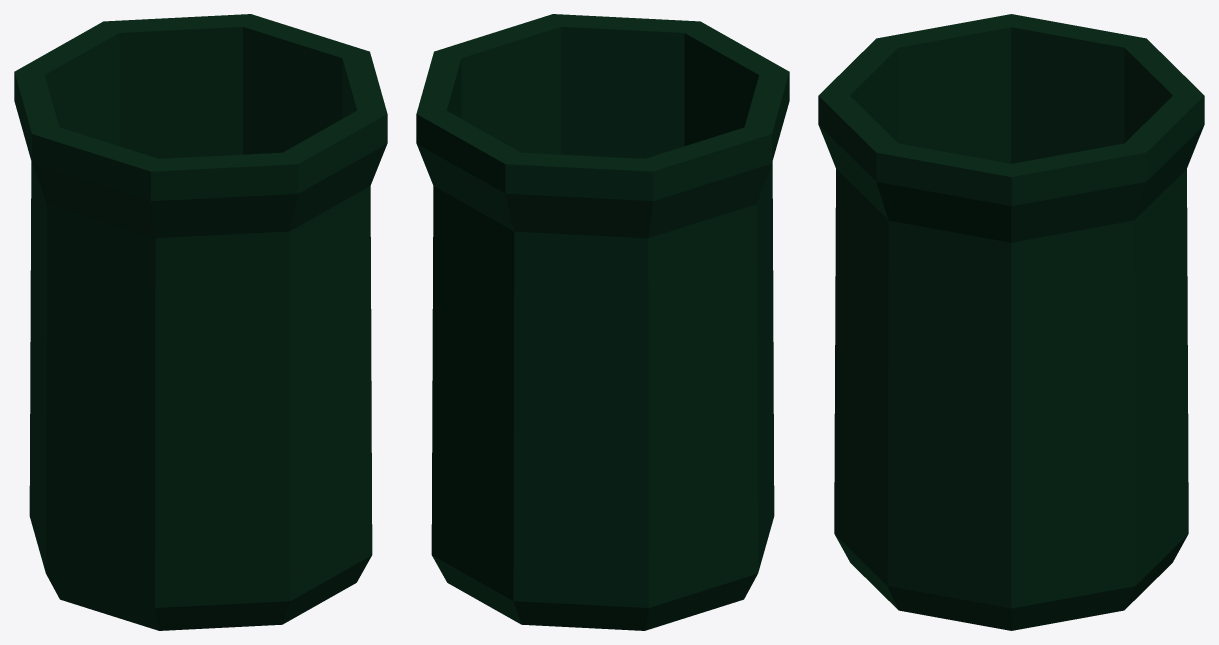
Rendered from trash_can.fbx.
The picture shows the model from 3 angles, left to right: view 1: azimuth 30°, elevation 25°; view 2: azimuth 150°, elevation 25°; view 3: azimuth 270°, elevation 25°; orthographic projection.
Parts seen in each view (by area): view 1: Plane; view 2: Plane; view 3: Plane.
Part boxes in pixels (x1=…): Plane: x1=14, y1=14, x2=387, y2=630; Plane: x1=416, y1=14, x2=789, y2=630; Plane: x1=818, y1=14, x2=1204, y2=630.
Size of the model in its own units: 240 by 320 by 240.
